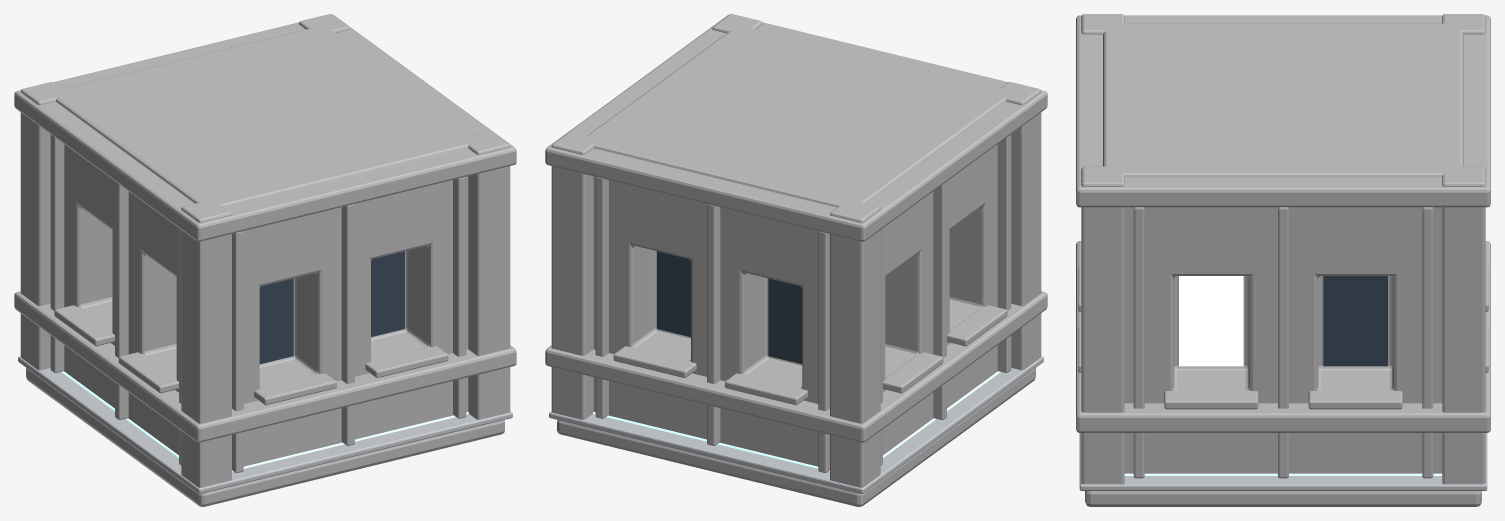
Rendered from concrete_2x2.glb.
The picture shows the model from 3 angles, left to right: view 1: azimuth 30°, elevation 25°; view 2: azimuth 150°, elevation 25°; view 3: azimuth 270°, elevation 25°; orthographic projection. The views are drawn at different scales.
Parts seen in each view (by area): view 1: ext_wall, int_ceiling, int_columns, ext_frames, ext_ledge_top, ext_ledge_mid, int_slab_edge, int_slab, ext_panes_dark, int_grid; view 2: ext_wall, int_ceiling, int_columns, ext_frames, ext_ledge_top, ext_ledge_mid, int_slab_edge, int_slab, ext_panes_dark, int_grid; view 3: int_ceiling, ext_wall, int_columns, ext_ledge_top, ext_frames, ext_ledge_mid, int_slab, ext_panes_lit, ext_panes_dark, int_slab_edge, int_grid.
Part boxes in pixels (x1,y1,x2,y2): ext_wall: (64, 144, 468, 466); int_ceiling: (53, 27, 480, 207); int_columns: (20, 14, 510, 487); ext_frames: (50, 134, 466, 472); ext_ledge_top: (14, 15, 516, 241); ext_ledge_mid: (14, 291, 516, 442); int_slab_edge: (18, 356, 512, 493); int_slab: (26, 368, 504, 506); ext_panes_dark: (259, 251, 404, 364); int_grid: (61, 371, 468, 471); ext_wall: (593, 144, 997, 466); int_ceiling: (581, 26, 1007, 207); int_columns: (551, 14, 1041, 487); ext_frames: (595, 134, 1011, 472); ext_ledge_top: (545, 15, 1047, 241); ext_ledge_mid: (545, 291, 1047, 442); int_slab_edge: (549, 356, 1043, 493); int_slab: (557, 368, 1035, 506); ext_panes_dark: (657, 251, 802, 364); int_grid: (593, 371, 1000, 471); int_ceiling: (1103, 23, 1463, 177); ext_wall: (1124, 207, 1442, 473); int_columns: (1081, 14, 1485, 484); ext_ledge_top: (1076, 15, 1490, 207); ext_frames: (1078, 207, 1488, 478); ext_ledge_mid: (1076, 241, 1490, 432); int_slab: (1085, 491, 1481, 506); ext_panes_lit: (1179, 276, 1243, 366); ext_panes_dark: (1323, 276, 1387, 366); int_slab_edge: (1079, 433, 1487, 490); int_grid: (1124, 473, 1442, 475).
Size of the model in its own units: 2.3 by 2 by 2.3.
